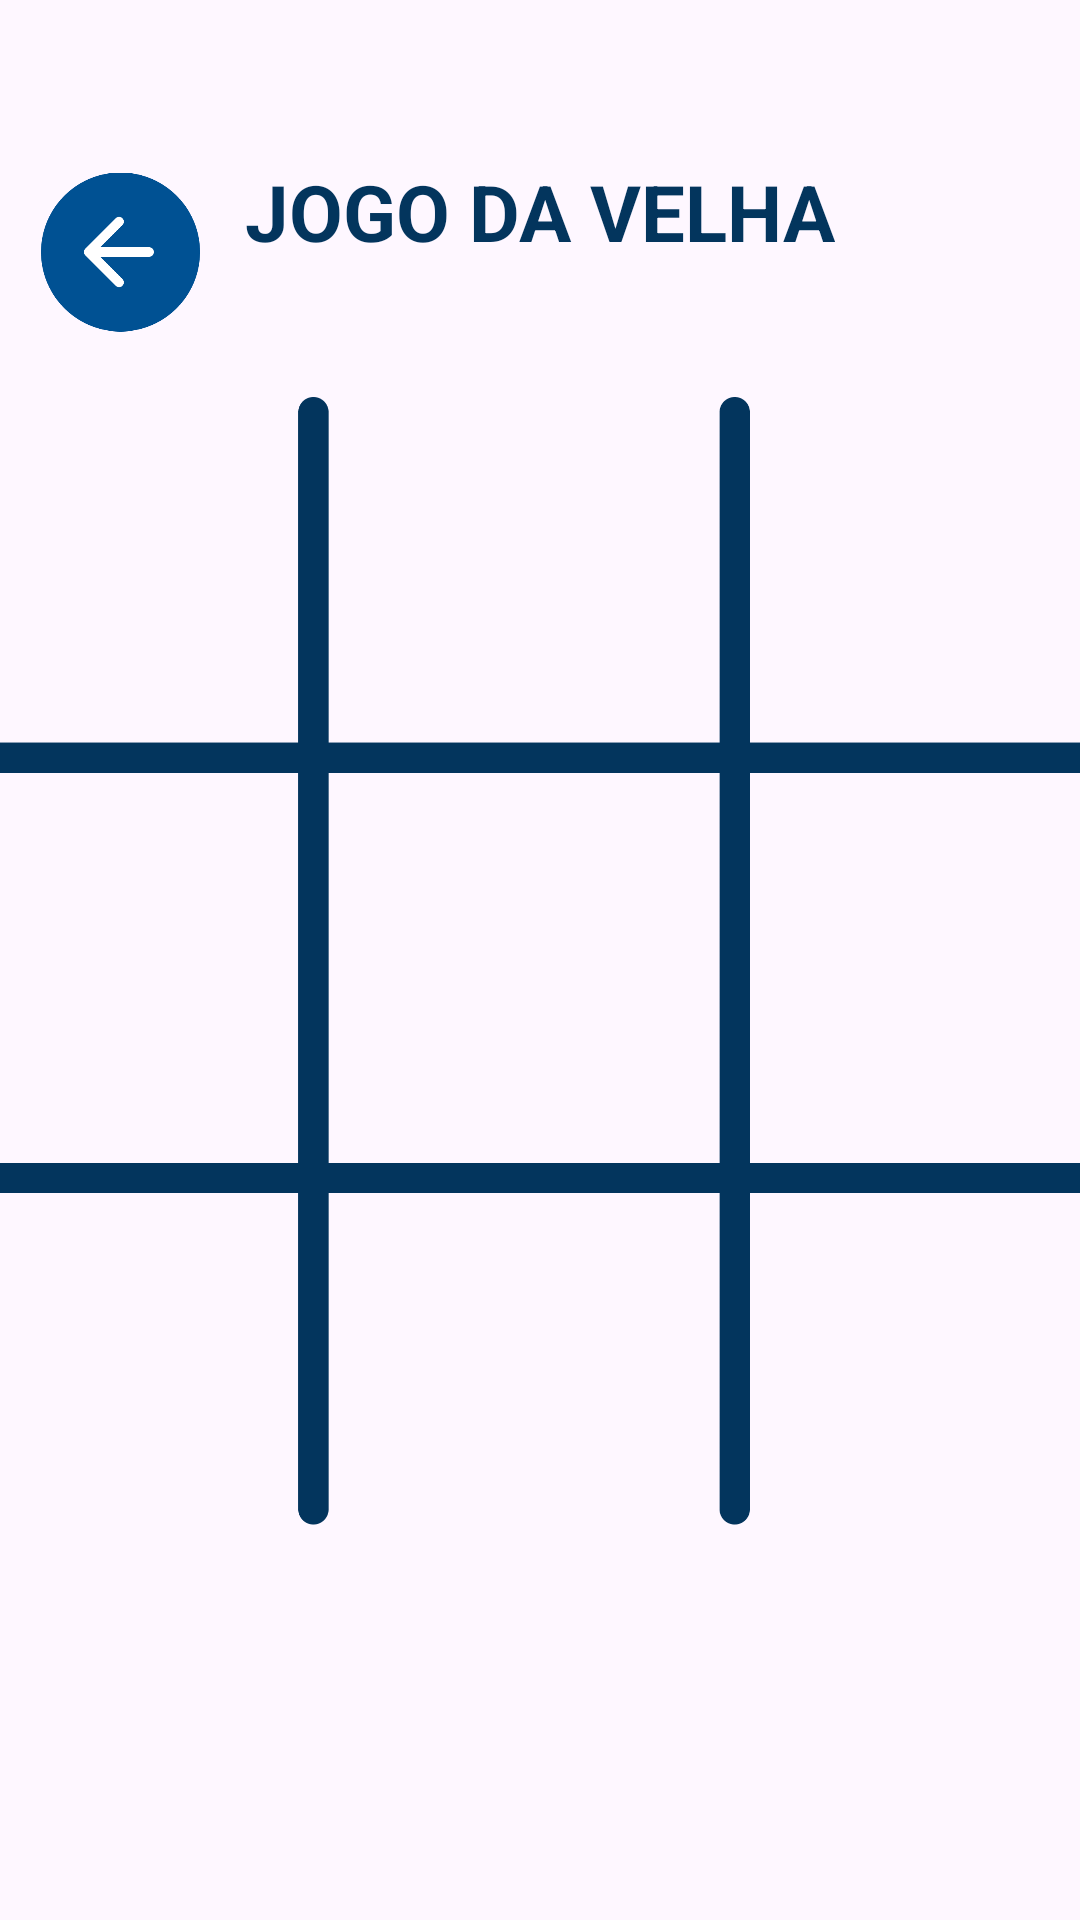

Point at icon controls on the screen. Image size 1080px x 1920px, points as (x=x, y=y).
seta voltar: (x=120, y=252)
